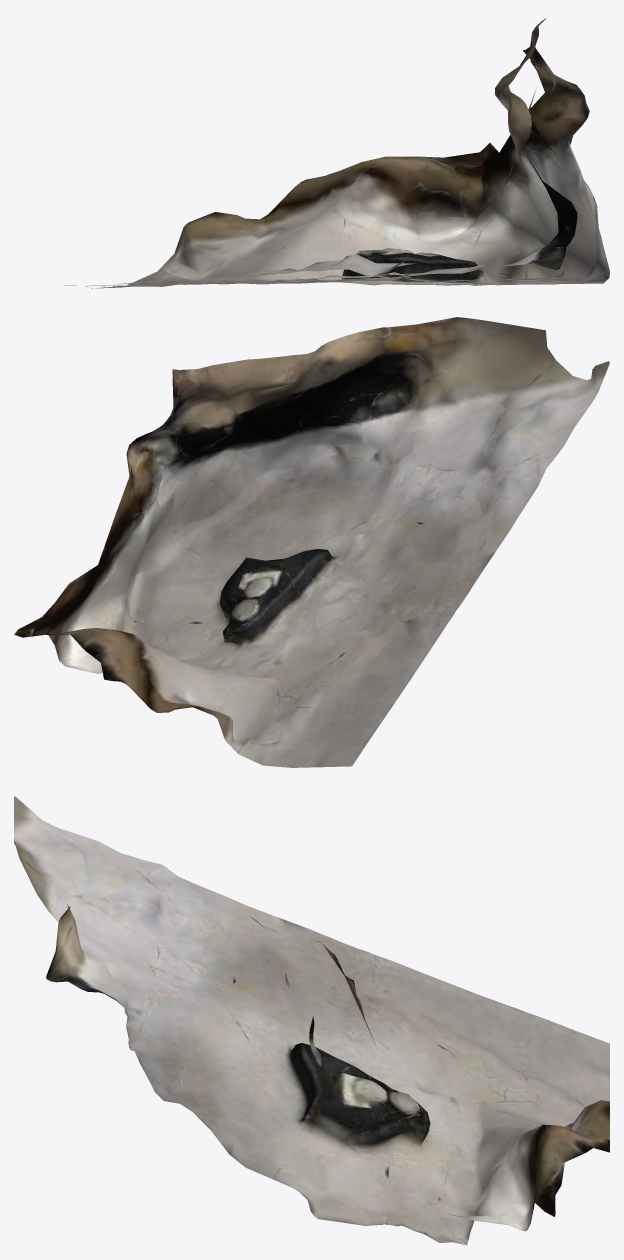
File: hall.glb
3 views of the same model, one above another, from view 1: azimuth 30°, elevation 25°; view 2: azimuth 150°, elevation 25°; view 3: azimuth 270°, elevation 25° (orthographic). The views are drawn at different scales.
Size of the model in its own units: 1.57 by 1.07 by 1.94.
1 material, 1 textured.
